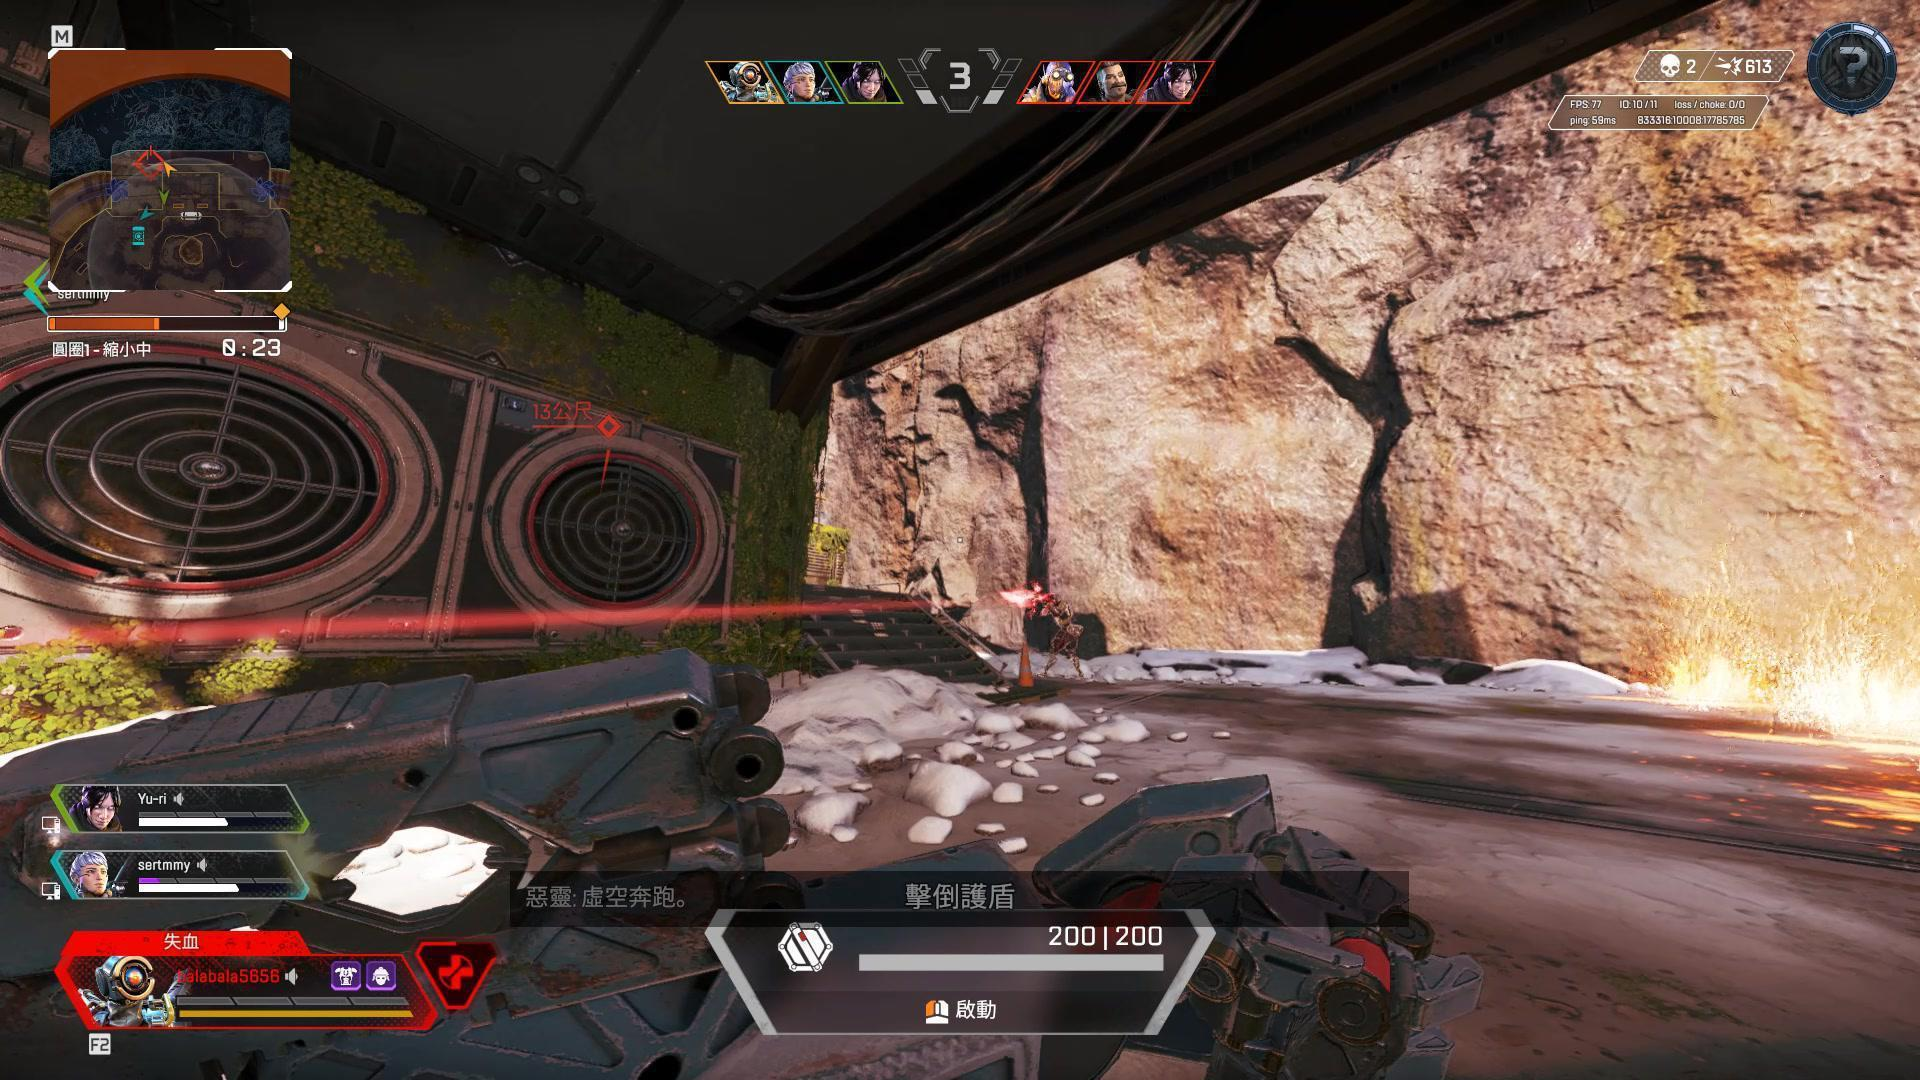avatar: (1036, 591, 1087, 678)
